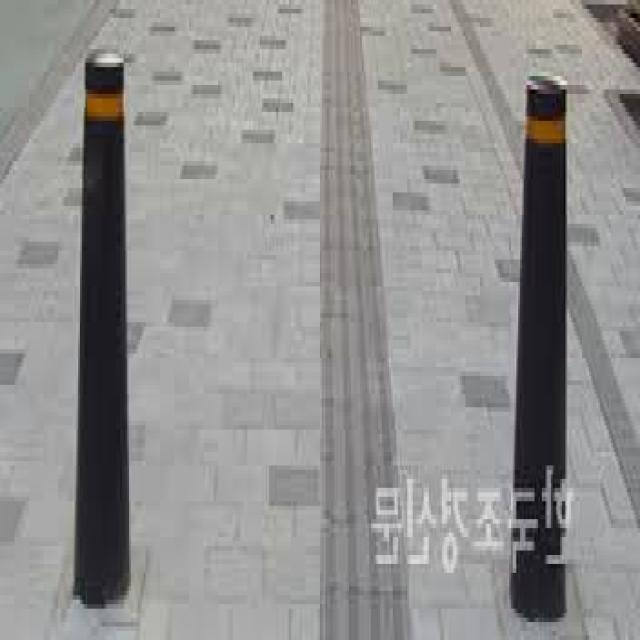bollard: (494, 60, 580, 621), (68, 31, 134, 611)
